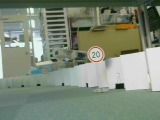speed_20: (86, 45, 104, 63)
